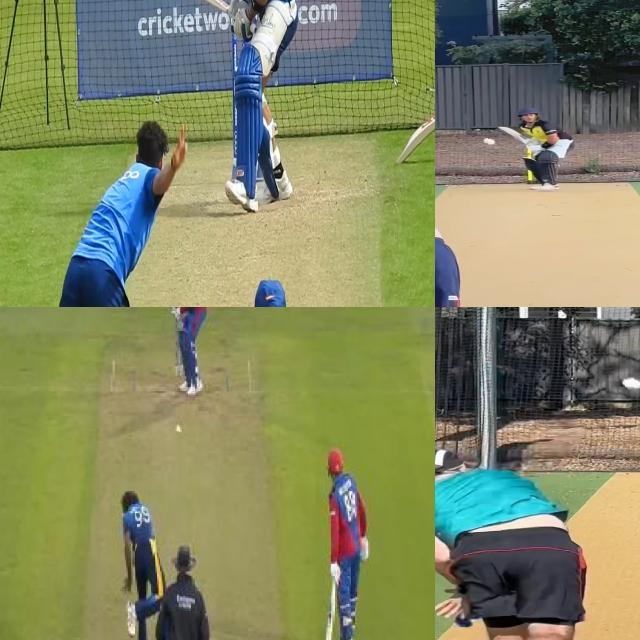Cricket ball: (619, 374, 640, 390), (483, 134, 498, 146), (174, 423, 184, 435)
